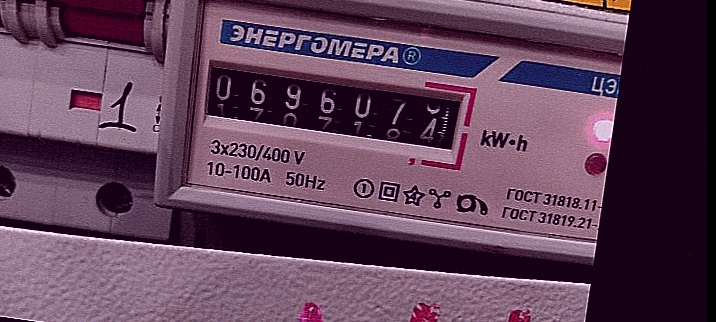0: (210, 71, 235, 104), (351, 90, 374, 122)
4: (415, 115, 438, 146)
6: (315, 85, 339, 119), (246, 76, 269, 108)
7: (385, 94, 407, 127)
9: (280, 81, 304, 113)
screen: (187, 43, 480, 174)
